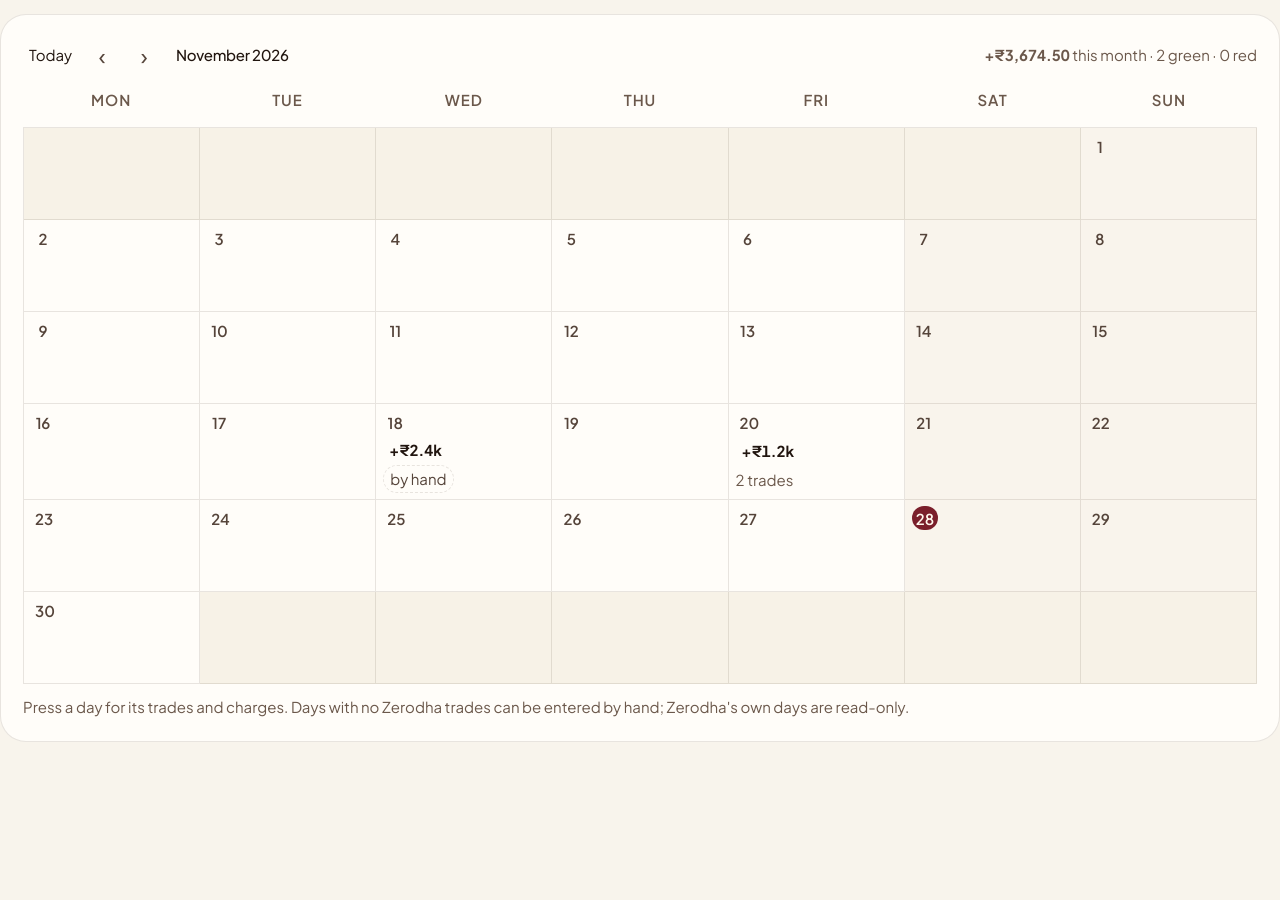
Scenario: the month calendar: each day's net; a Zerodha day opens read-only with its trades and charges
The width and height of the screenshot is (1280, 900).
Expected: the heading "November 2026" is shown, [176, 42, 289, 68]
Expected: the element with class "jl-cal__sum" reads "+₹3,674.50 this month · 2 green · 0 red", [984, 42, 1257, 68]
Click the cell named "20 November 2026: +₹1,234.50, 2 trades". click: (817, 452)
box: [729, 404, 905, 500]
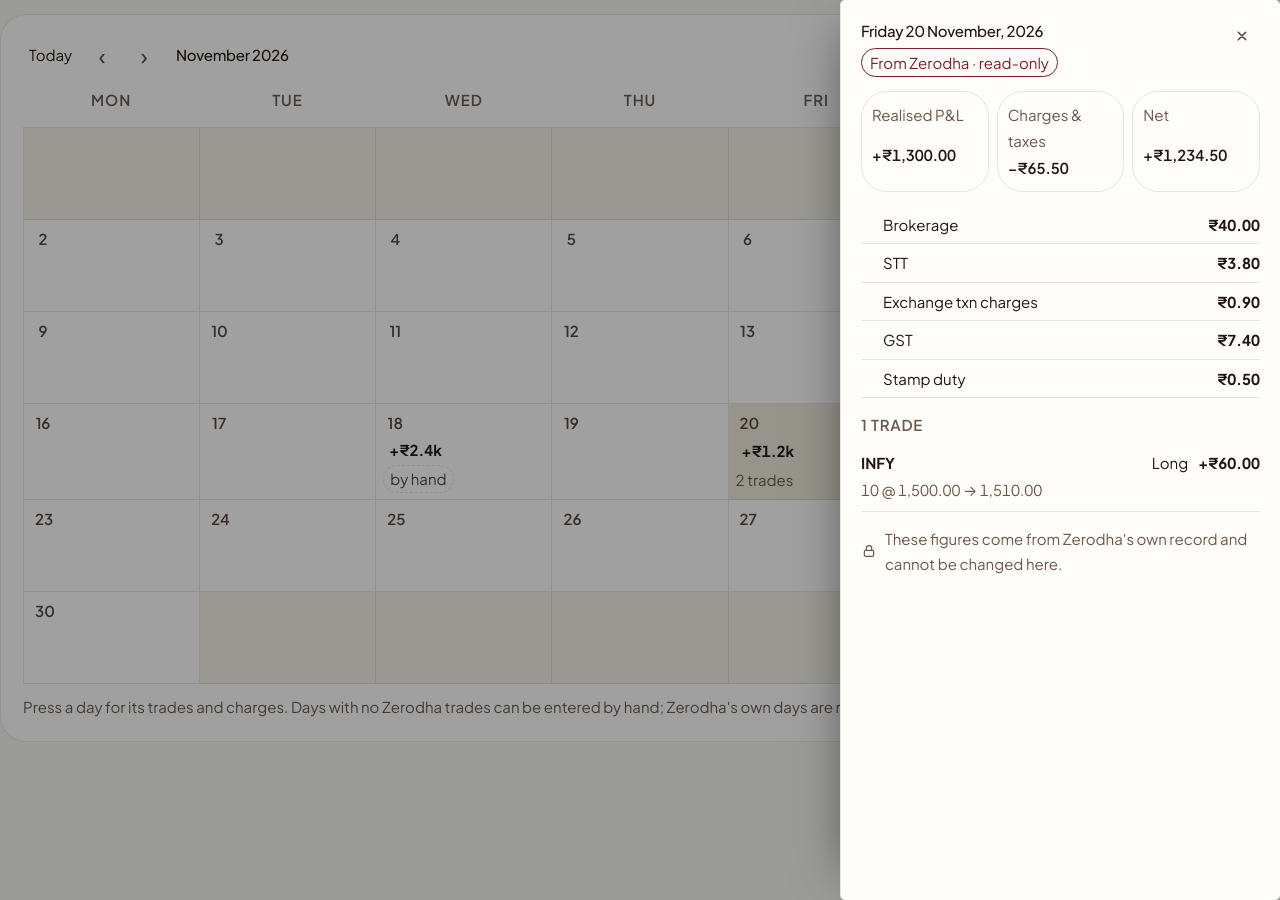
Now the text "From Zerodha · read-only" is shown, box [861, 48, 1058, 77]
Now the dialog shows "These figures come from Zerodha's own record and cannot be changed here", box [885, 528, 1247, 573]
Press Escape
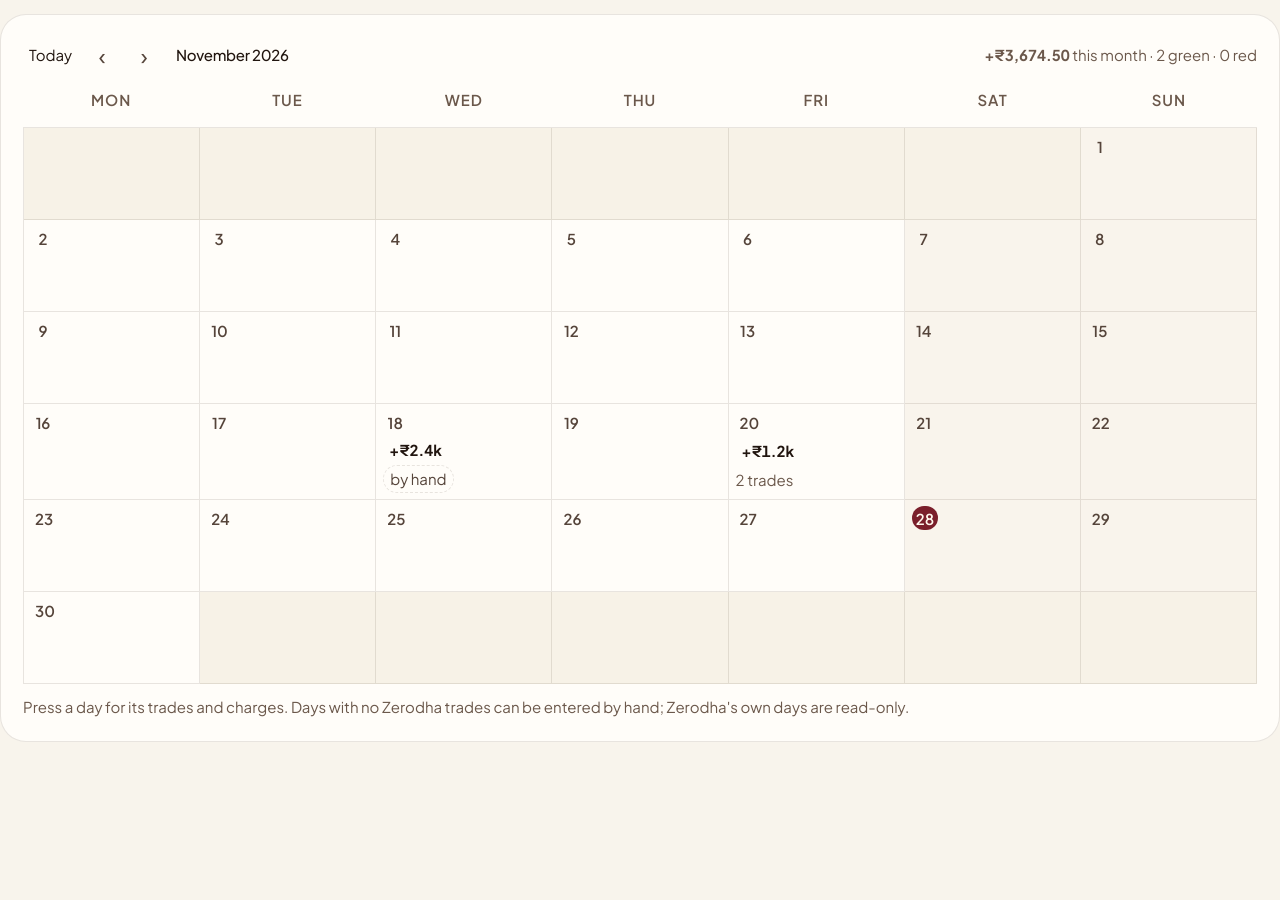
Now the dialog is gone
Note: the next month and back
Click the button named "The month after". click: (144, 55)
box: [126, 37, 162, 73]
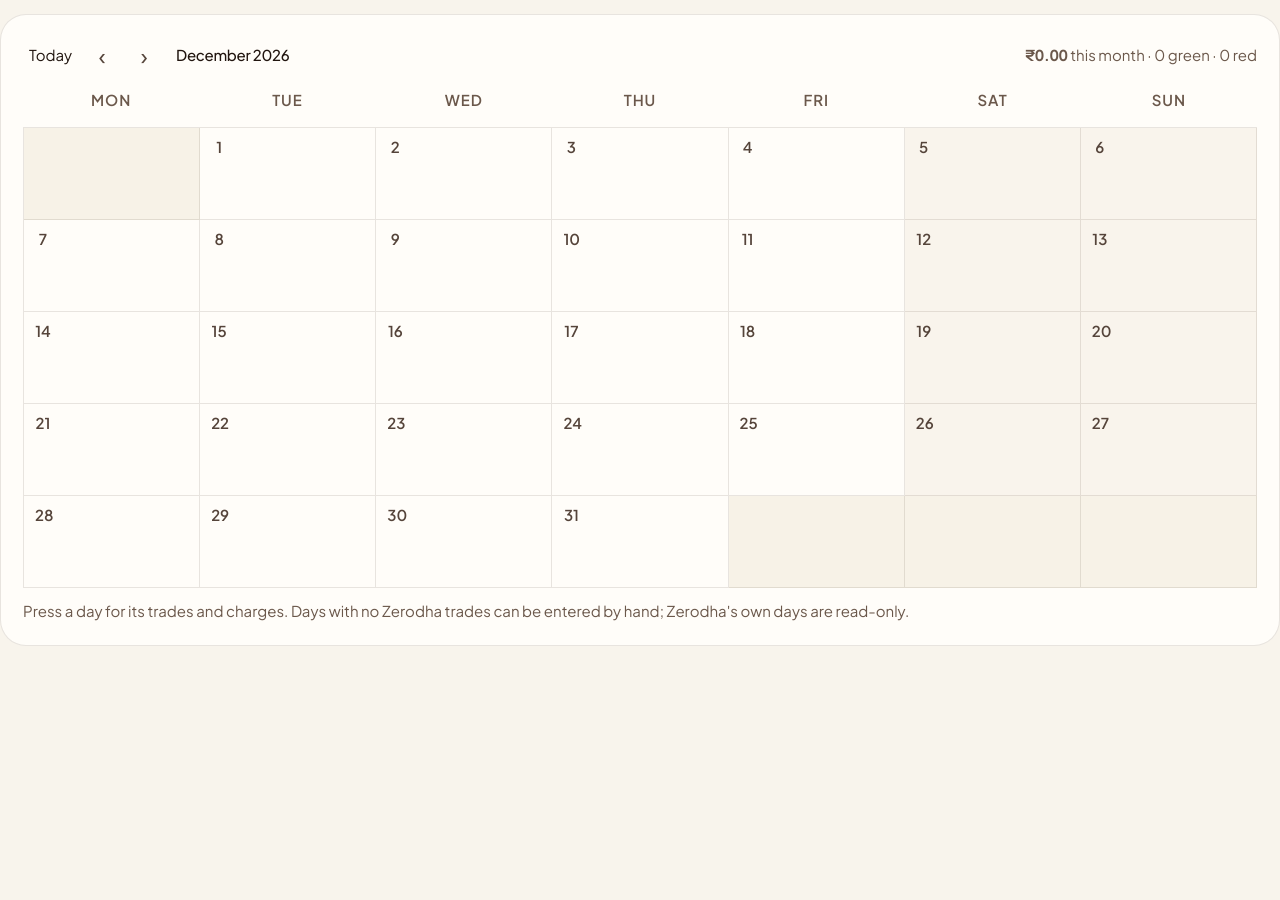
Now the heading "December 2026" is shown, box [176, 42, 289, 68]
Click the button named "The month before". click: (102, 55)
box: [84, 37, 120, 73]
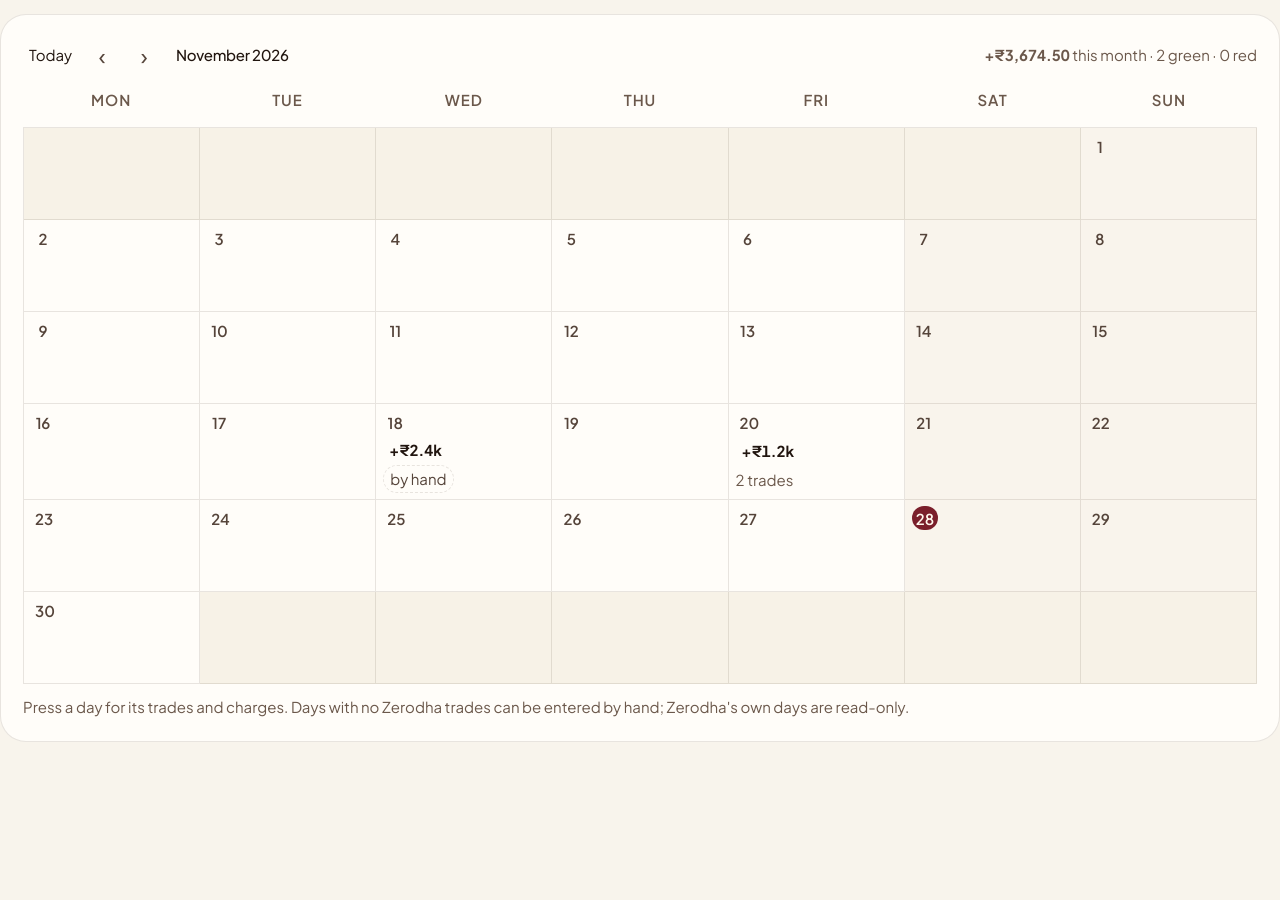
Now the heading "November 2026" is shown, box [176, 42, 289, 68]
